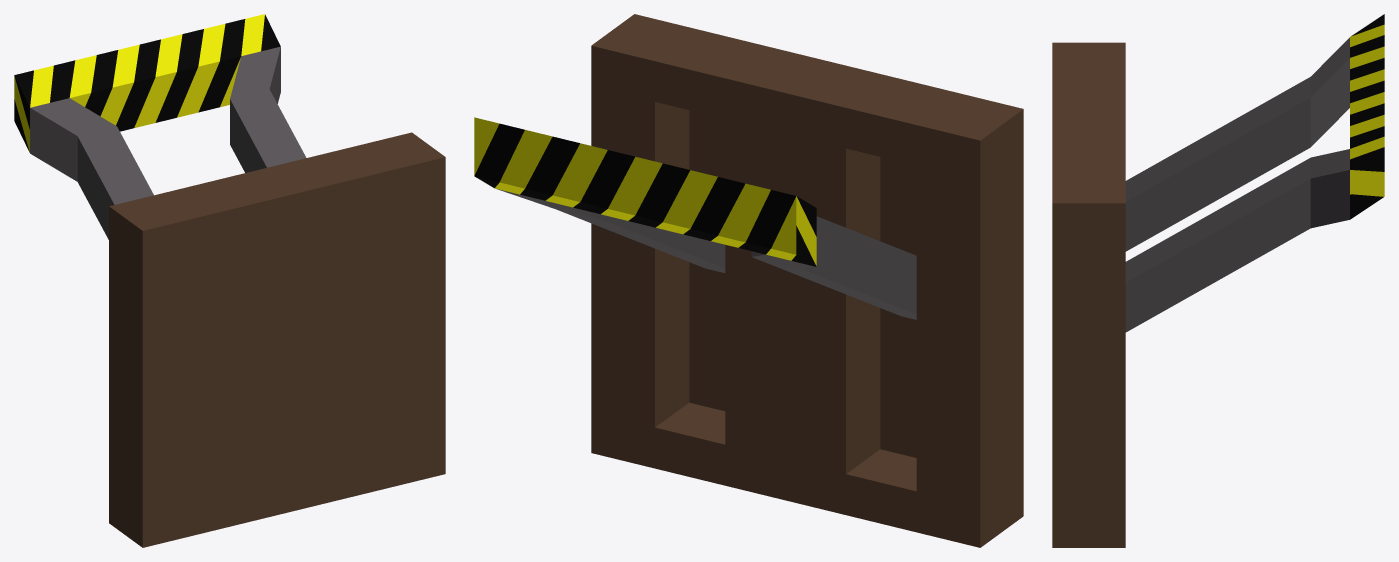
The model's file is LeverYWall.glb.
3 renders of one model, left to right at view 1: azimuth 30°, elevation 25°; view 2: azimuth 150°, elevation 25°; view 3: azimuth 270°, elevation 25°, orthographic. The views are drawn at different scales.
Visible parts, largest first — view 1: Plane, Plane.002, Plane.001; view 2: Plane, Plane.002, Plane.001; view 3: Plane, Plane.001, Plane.002.
Part boxes in pixels (x1=…): Plane: x1=109, y1=132, x2=445, y2=547; Plane.002: x1=14, y1=44, x2=155, y2=239; Plane.001: x1=140, y1=14, x2=306, y2=172; Plane: x1=591, y1=14, x2=1023, y2=547; Plane.002: x1=635, y1=156, x2=916, y2=319; Plane.001: x1=474, y1=117, x2=725, y2=272; Plane: x1=1052, y1=42, x2=1125, y2=547; Plane.001: x1=1125, y1=80, x2=1384, y2=332; Plane.002: x1=1125, y1=14, x2=1384, y2=251.
Bounding box in the file's own units: 0.8582 × 0.9616 × 0.7494.
